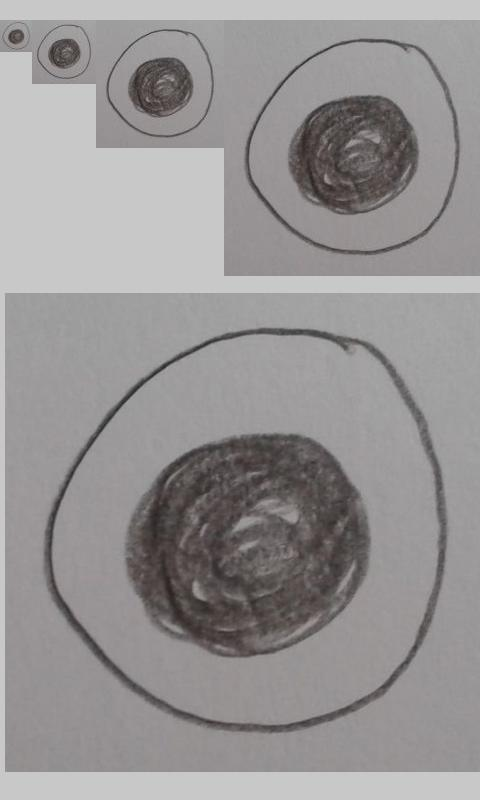radio_button: (40, 324, 452, 734), (243, 37, 461, 257), (105, 28, 215, 139), (36, 23, 92, 80), (1, 21, 31, 51)
